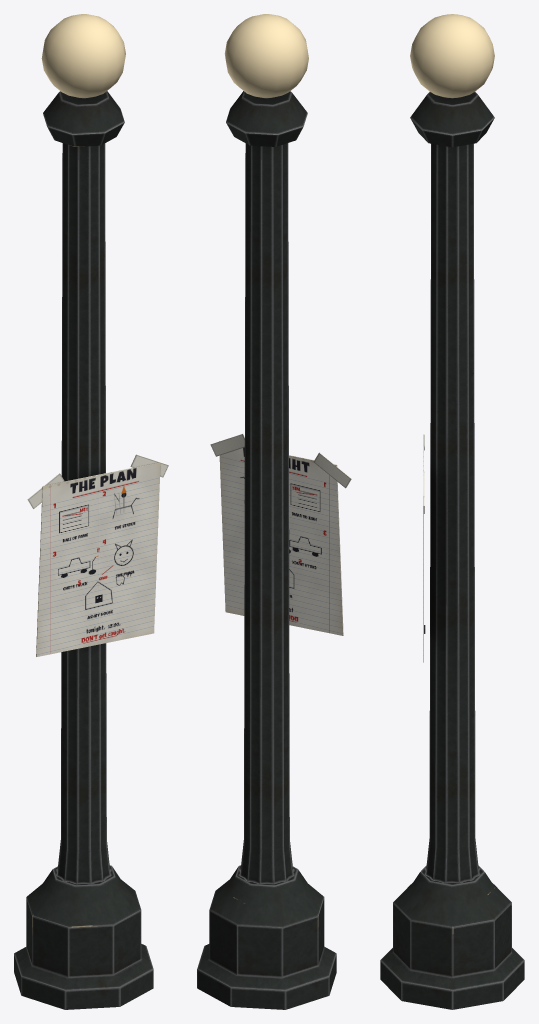
The model's file is WFPlanPost.fbx.
3 views of the same model, side by side, from view 1: azimuth 30°, elevation 25°; view 2: azimuth 150°, elevation 25°; view 3: azimuth 270°, elevation 25° (orthographic).
Visible parts, largest first — view 1: WFPlanPost_Main, WFPlanPost_Flyer, WFPlanPost_Glow; view 2: WFPlanPost_Main, WFPlanPost_Flyer, WFPlanPost_Glow; view 3: WFPlanPost_Main, WFPlanPost_Glow.
Part boxes in pixels (box(x1,y1,x2,y2)): WFPlanPost_Main: box(14, 91, 168, 1009); WFPlanPost_Flyer: box(36, 462, 160, 656); WFPlanPost_Glow: box(41, 14, 125, 98); WFPlanPost_Main: box(197, 91, 351, 1009); WFPlanPost_Flyer: box(219, 441, 343, 635); WFPlanPost_Glow: box(224, 14, 308, 98); WFPlanPost_Main: box(380, 92, 524, 1009); WFPlanPost_Glow: box(410, 14, 494, 98).
Bounding box in the file's own units: 192 × 1250 × 170.
